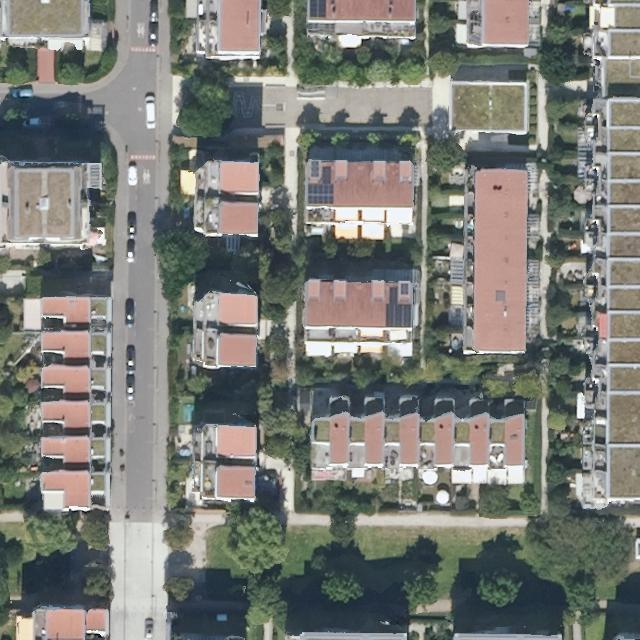PV: (384, 286, 414, 329), (304, 182, 336, 205), (319, 165, 334, 185), (308, 160, 321, 178)
